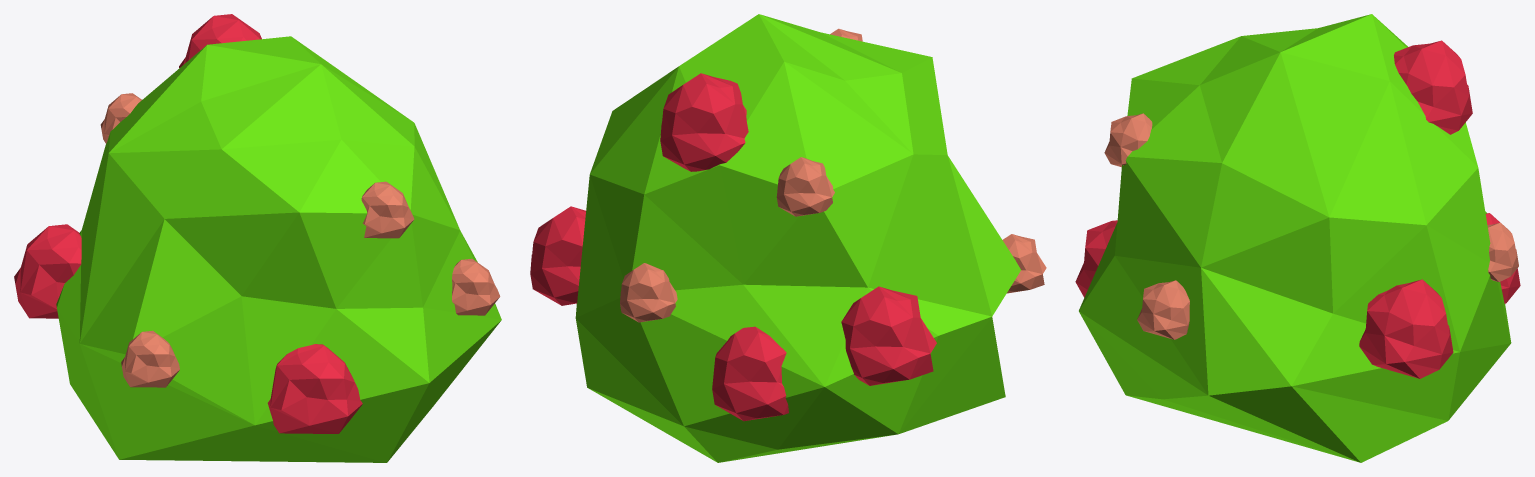
Rendered from BigBushFruity.fbx.
3 views of the same model, side by side, from view 1: azimuth 30°, elevation 25°; view 2: azimuth 150°, elevation 25°; view 3: azimuth 270°, elevation 25° (orthographic). The views are drawn at different scales.
Parts seen in each view (by area): view 1: BushBigFruity; view 2: BushBigFruity; view 3: BushBigFruity.
Boxes of the visible parts, x1=… form: BushBigFruity: x1=14, y1=14, x2=501, y2=462; BushBigFruity: x1=530, y1=14, x2=1046, y2=462; BushBigFruity: x1=1075, y1=14, x2=1520, y2=462.
Size of the model in its own units: 540 by 464 by 510.
